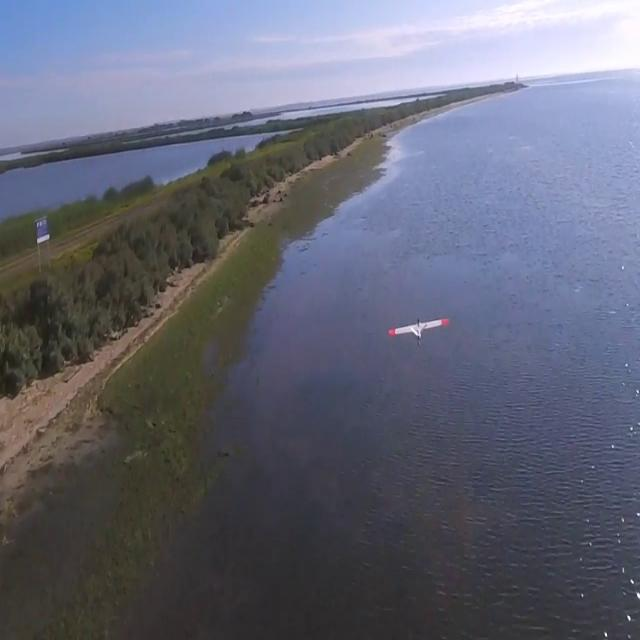iha: (389, 306, 449, 340)
